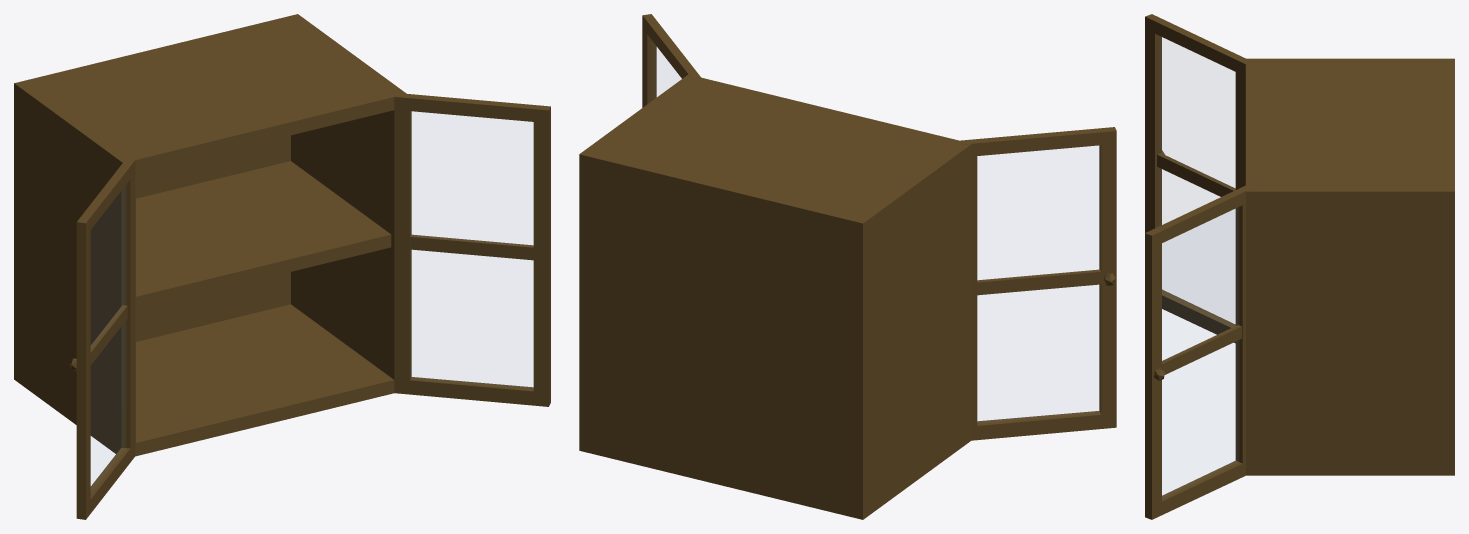
The model's file is cupboard_open.fbx.
3 views of the same model, side by side, from view 1: azimuth 30°, elevation 25°; view 2: azimuth 150°, elevation 25°; view 3: azimuth 270°, elevation 25° (orthographic). The views are drawn at different scales.
Visible parts, largest first — view 1: cupboard, shelf, door_r, door_l; view 2: cupboard, door_l, door_r; view 3: cupboard, door_r, door_l.
Part boxes in pixels (box(x1,y1,x2,y2)): cupboard: box(14, 14, 406, 456); shelf: box(136, 161, 391, 309); door_r: box(394, 93, 550, 406); door_l: box(69, 158, 135, 519); cupboard: box(579, 74, 971, 519); door_l: box(960, 127, 1116, 440); door_r: box(642, 14, 700, 107); cupboard: box(1246, 58, 1454, 475); door_r: box(1145, 185, 1252, 519); door_l: box(1145, 14, 1252, 343).
Bounding box in the file's own units: 1010 × 599 × 591.
